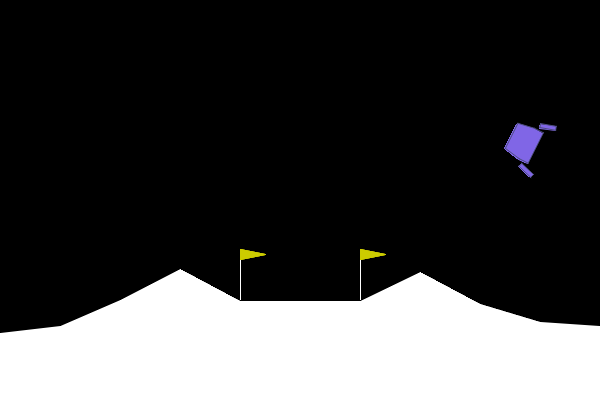lander: (496, 109, 558, 180)
